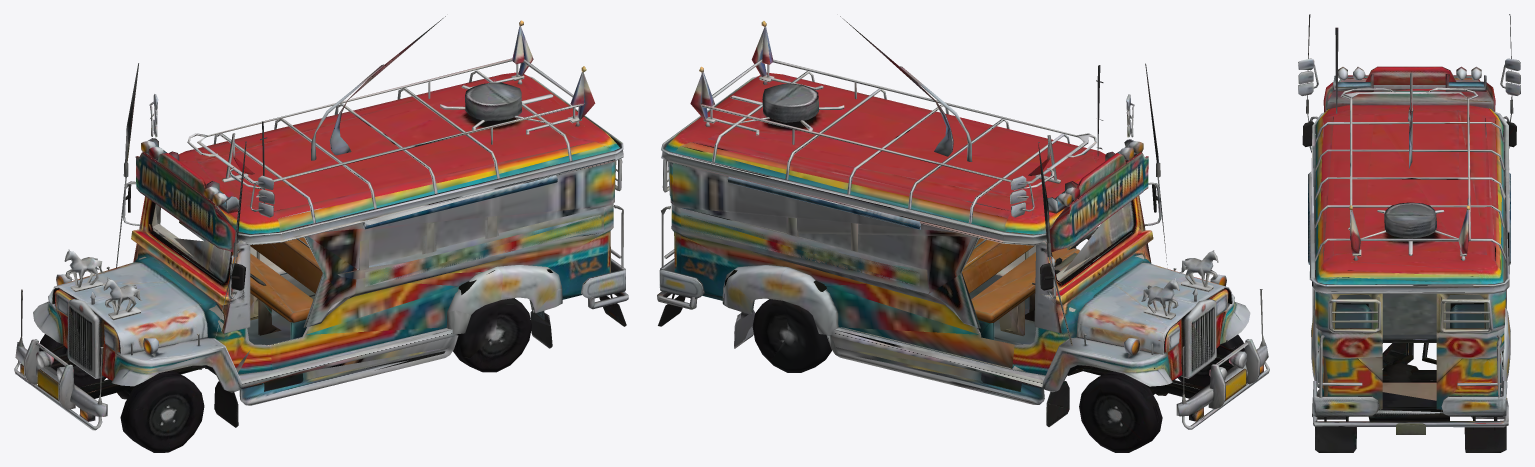
Rendered from jeepney.glb.
3 renders of one model, left to right at view 1: azimuth 30°, elevation 25°; view 2: azimuth 150°, elevation 25°; view 3: azimuth 270°, elevation 25°, orthographic. The views are drawn at different scales.
Visible parts, largest first — view 1: geometry_0; view 2: geometry_0; view 3: geometry_0.
Boxes of the visible parts, x1=… form: geometry_0: x1=14, y1=16, x2=628, y2=452; geometry_0: x1=657, y1=16, x2=1269, y2=452; geometry_0: x1=1298, y1=14, x2=1520, y2=452.
Bounding box in the file's own units: 0.9331 × 0.5405 × 0.3584.
Materials: 1 (1 with a texture image).
